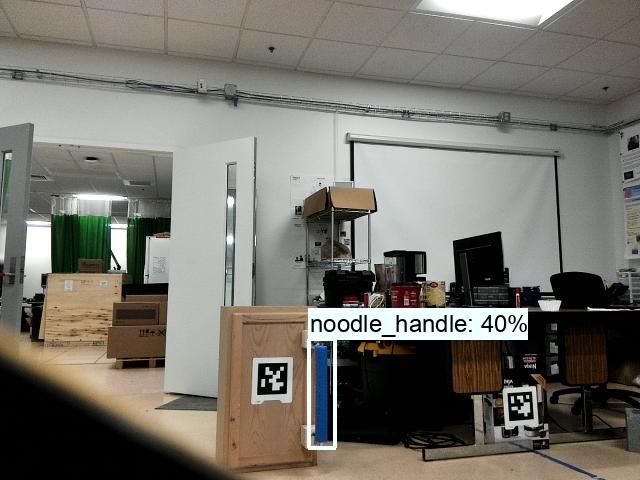noodle_handle: (310, 337, 330, 447)
